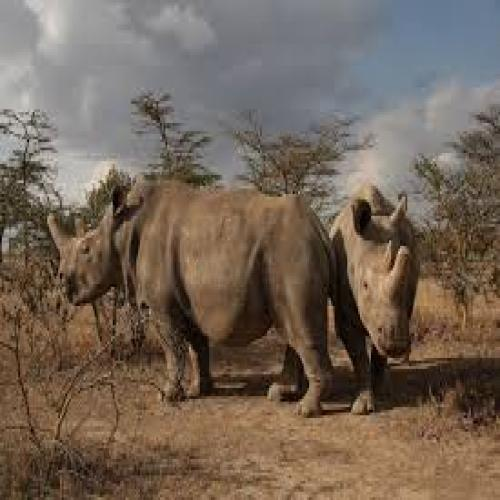rhino-endangered: (46, 177, 330, 423), (331, 182, 425, 417)
